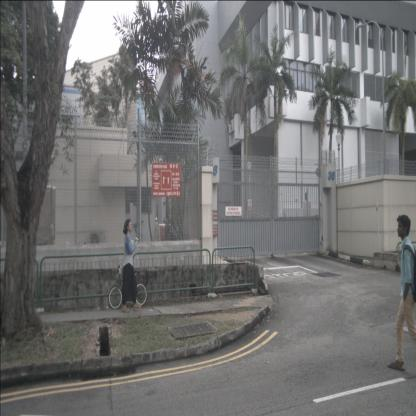barrier: (159, 224, 171, 240)
